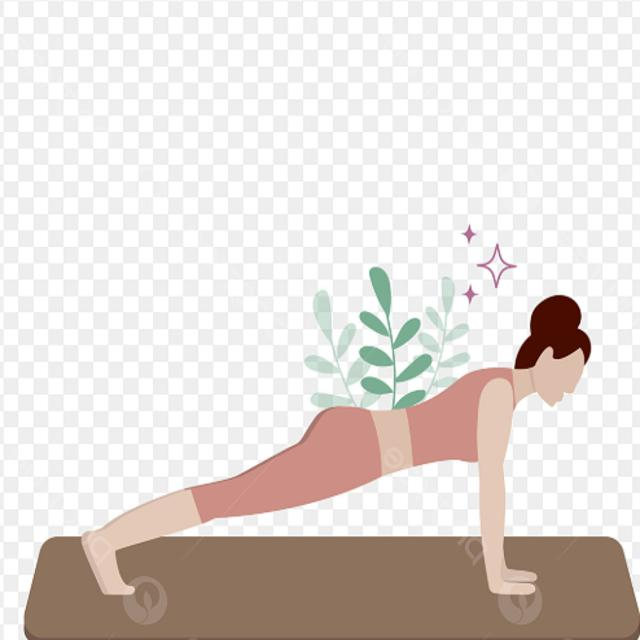Plank_Pose: (55, 284, 602, 603)
